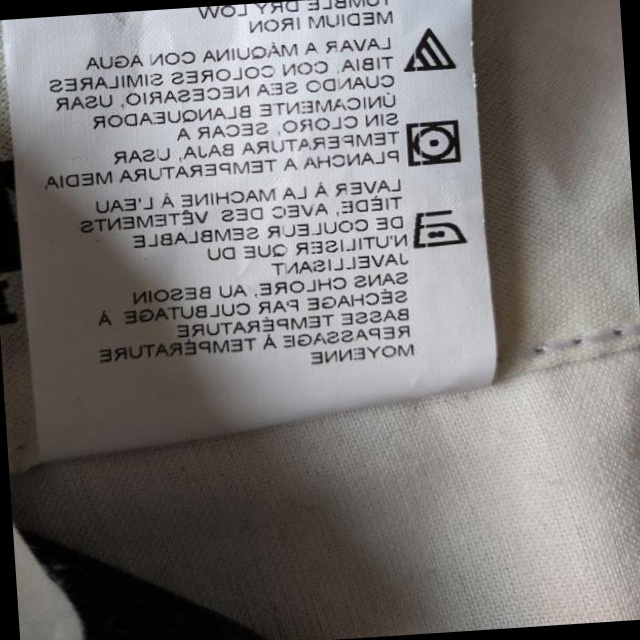iron_medium: (407, 205, 465, 250)
non_chlorine_bleach: (397, 22, 458, 81)
tumble_dry_low: (402, 115, 467, 169)
